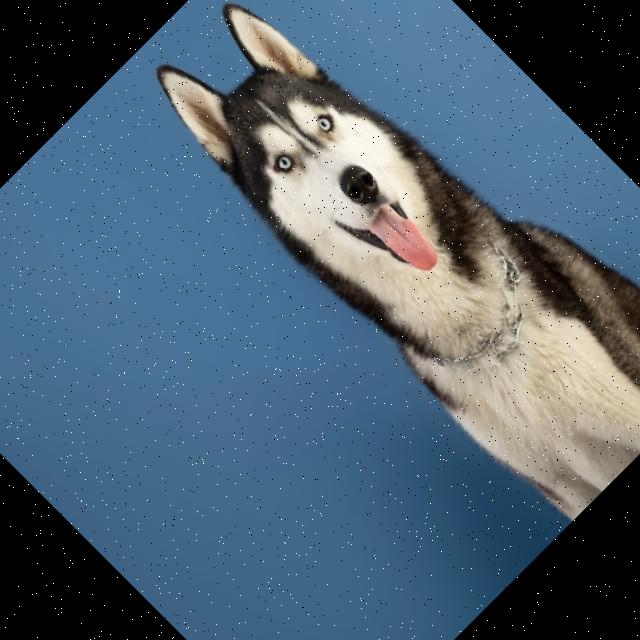Dog: (127, 0, 640, 528)
